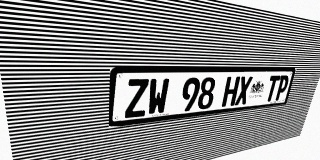8: (197, 77, 217, 110)
9: (180, 77, 201, 112)
H: (221, 76, 240, 107)
P: (274, 75, 290, 101)
T: (264, 75, 281, 102)
W: (147, 78, 170, 116)
X: (235, 76, 253, 105)
Z: (125, 79, 149, 118)
